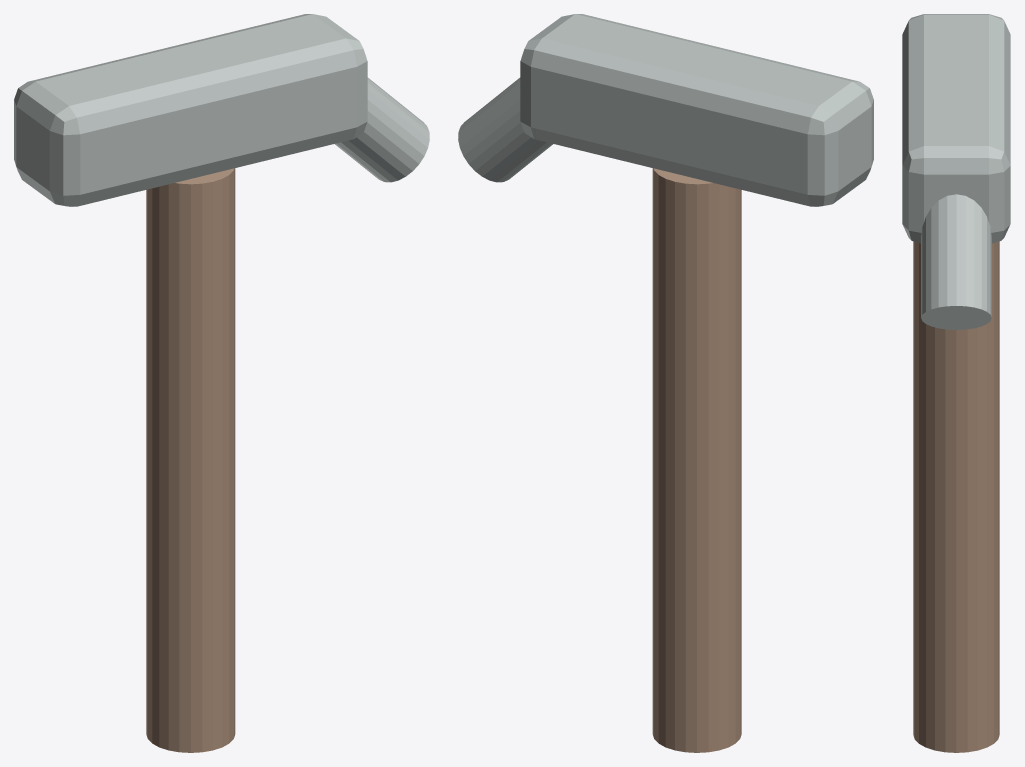
3 views of the same model, side by side, from view 1: azimuth 30°, elevation 25°; view 2: azimuth 150°, elevation 25°; view 3: azimuth 270°, elevation 25° (orthographic). The views are drawn at different scales.
Parts seen in each view (by area): view 1: wood handle, hammer head, claw; view 2: wood handle, hammer head, claw; view 3: wood handle, hammer head, claw.
Part boxes in pixels (box(x1,y1,x2,y2)): wood handle: box(146, 168, 235, 752); hammer head: box(14, 14, 367, 206); claw: box(335, 77, 429, 182); wood handle: box(652, 168, 741, 752); hammer head: box(520, 14, 873, 206); claw: box(458, 77, 552, 182); wood handle: box(913, 241, 999, 752); hammer head: box(902, 14, 1010, 243); claw: box(921, 194, 991, 329).
Size of the model in its own units: 0.2227 by 0.3675 by 0.055.
